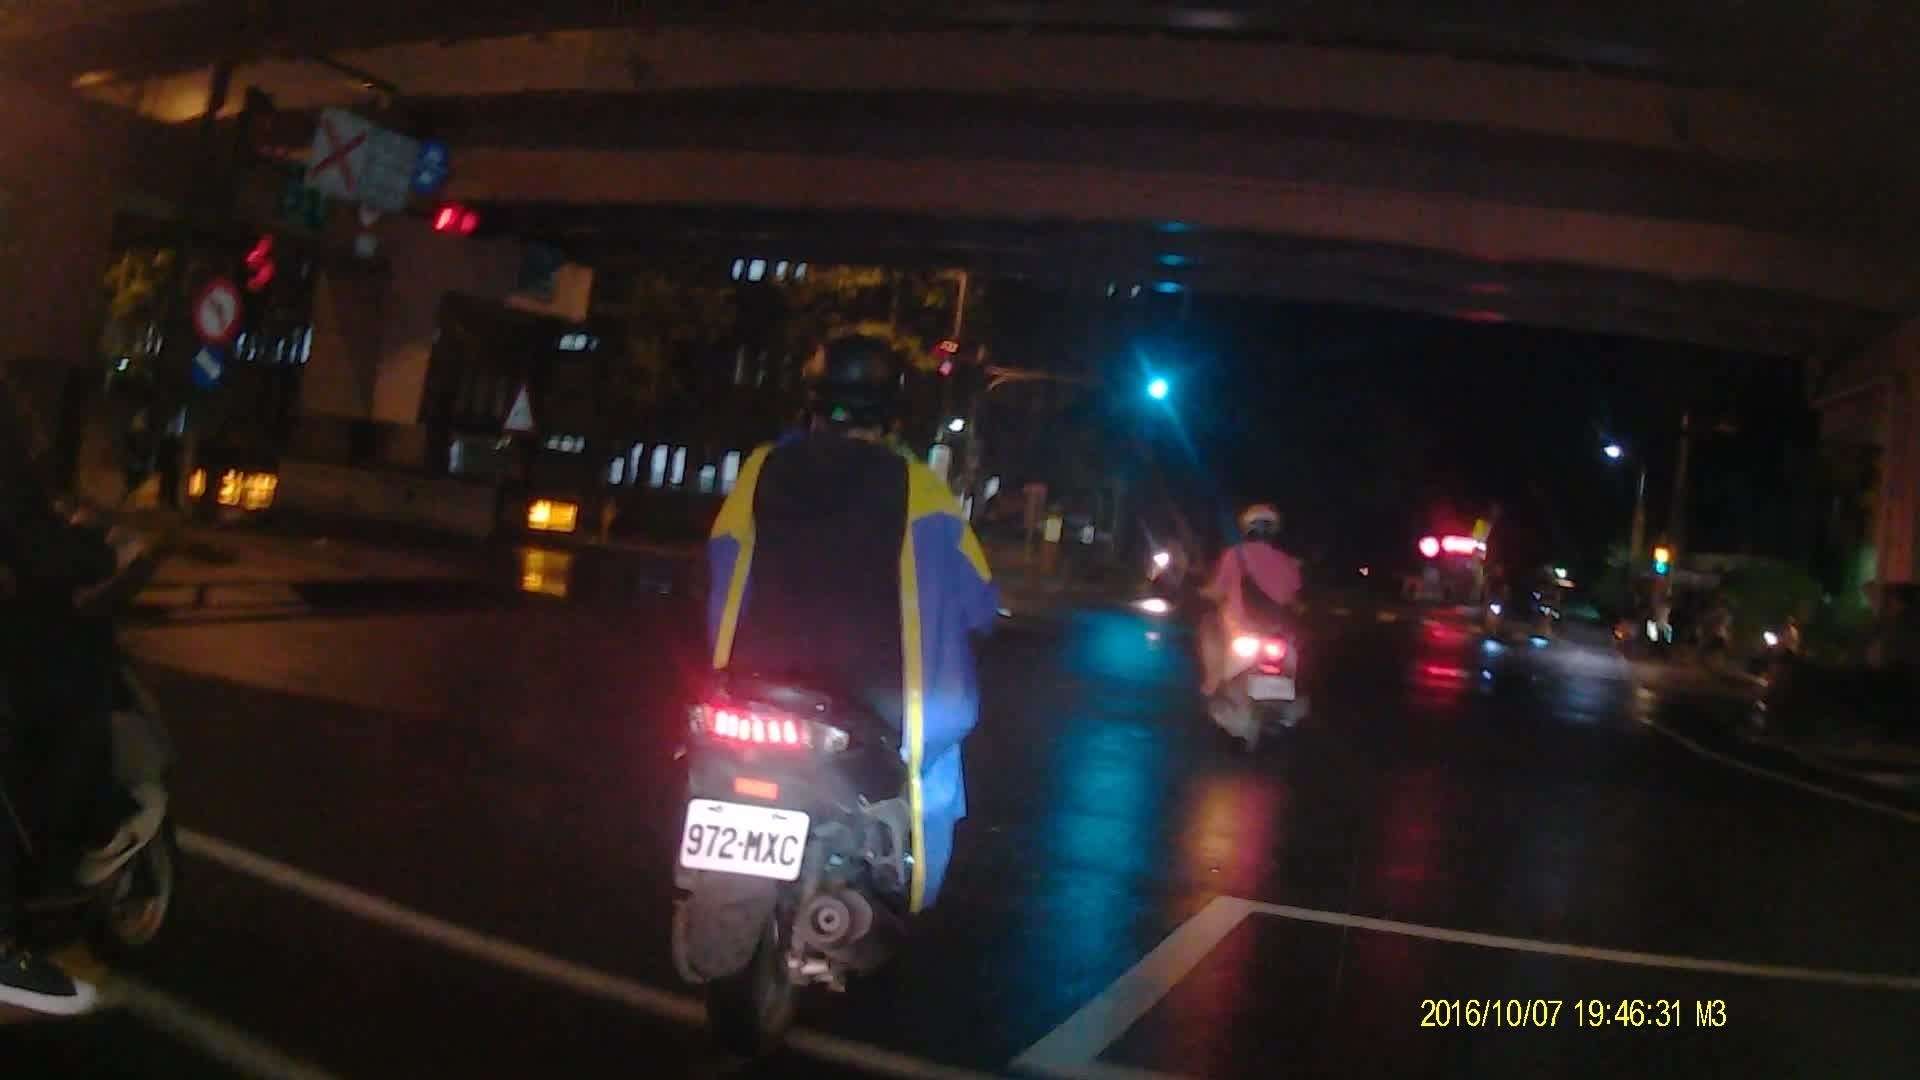License_plate: (681, 799, 806, 889), (1246, 669, 1296, 699)
